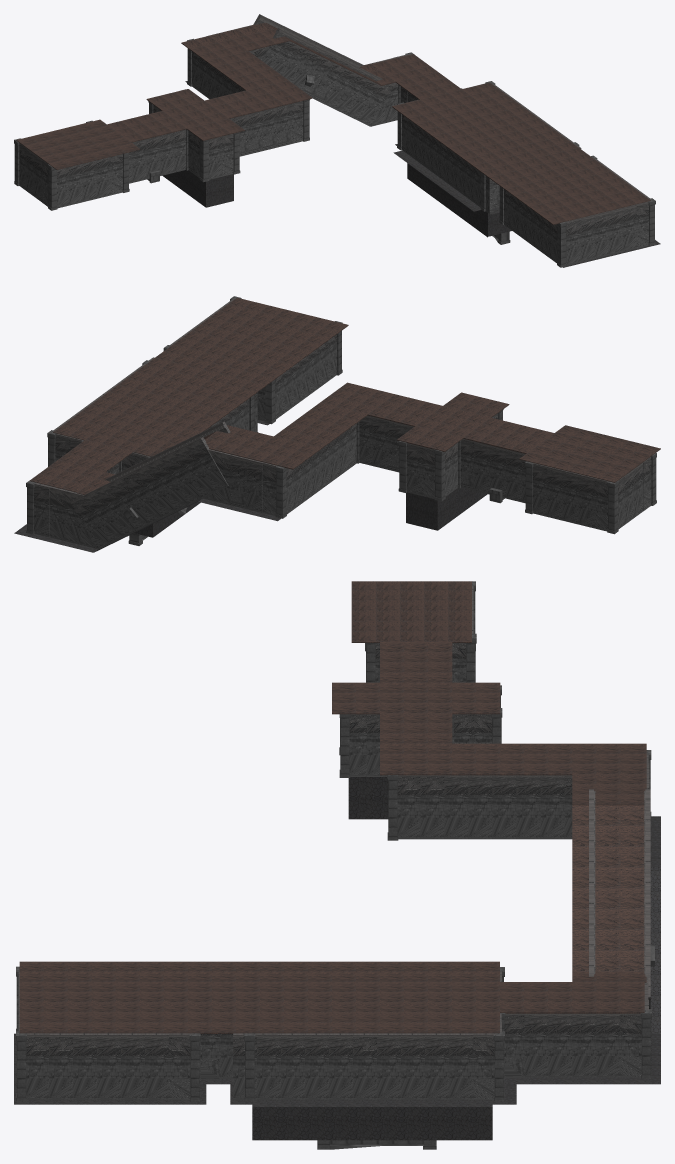
Rendered from level1Environment.fbx.
3 views of the same model, one above another, from view 1: azimuth 30°, elevation 25°; view 2: azimuth 150°, elevation 25°; view 3: azimuth 270°, elevation 25° (orthographic). The views are drawn at different scales.
Visible parts, largest first — view 1: Plane.013, Wall.038, Wall.010, SeparatedWall.004, OuterCorner.003, Wall.016, Wall.008, Wall.034, Wall.037, Wall.035, InnerCorner.004, InnerCorner.005 (+15 smaller); view 2: Plane.013, Wall.015, Wall.019, OuterCorner.004, Wall.001, Wall.009, Wall.017, Wall.037, InnerCorner.001, InnerCorner.010, InnerCorner.008, InnerCorner.011 (+19 smaller); view 3: Wall.032, Wall.036, Wall.027, Wall.033, Plane.013, Wall.007, InnerCorner.018, InnerCorner.011, InnerCorner.009, InnerCorner.012, InnerCorner.016, InnerCorner.006 (+10 smaller).
Part boxes in pixels (box(x1,y1,x2,y2)): Plane.013: box(16, 119, 140, 169); Wall.038: box(566, 204, 636, 265); Wall.010: box(325, 61, 394, 126); SeparatedWall.004: box(283, 39, 348, 104); OuterCorner.003: box(230, 104, 290, 156); Wall.016: box(129, 132, 174, 183); Wall.008: box(68, 157, 110, 205); Wall.034: box(409, 120, 449, 184); Wall.037: box(511, 194, 551, 258); Wall.035: box(449, 149, 493, 213); InnerCorner.004: box(42, 160, 68, 210); InnerCorner.005: box(195, 136, 221, 182); Plane.013: box(519, 425, 660, 482); Wall.015: box(123, 450, 201, 523); Wall.019: box(70, 476, 149, 549); OuterCorner.004: box(348, 415, 413, 472); Wall.001: box(546, 466, 594, 528); Wall.009: box(474, 441, 525, 503); Wall.017: box(215, 451, 263, 512); Wall.037: box(282, 341, 328, 414); InnerCorner.001: box(594, 476, 624, 534); InnerCorner.010: box(421, 446, 452, 501); InnerCorner.008: box(263, 462, 293, 518); InnerCorner.011: box(26, 480, 50, 537); Wall.032: box(353, 1033, 473, 1100); Wall.036: box(49, 1033, 168, 1100); Wall.027: box(420, 775, 540, 839); Wall.033: box(233, 1033, 352, 1100); Plane.013: box(351, 581, 471, 642); Wall.007: box(524, 1013, 620, 1077); InnerCorner.018: box(16, 1022, 48, 1101); InnerCorner.011: box(620, 999, 651, 1078); InnerCorner.009: box(387, 775, 420, 840); InnerCorner.012: box(473, 1022, 504, 1101); InnerCorner.016: box(169, 1033, 200, 1101); InnerCorner.006: box(339, 714, 366, 777).
Size of the model in its own units: 10641 by 3362 by 8075.
